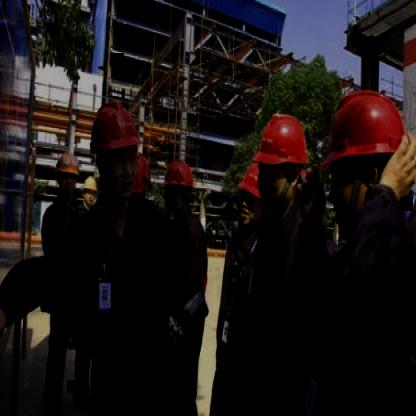helmet: (326, 83, 406, 241), (252, 110, 312, 209), (88, 100, 138, 208), (162, 156, 196, 218), (236, 164, 266, 230), (56, 153, 79, 203), (80, 173, 98, 215)
